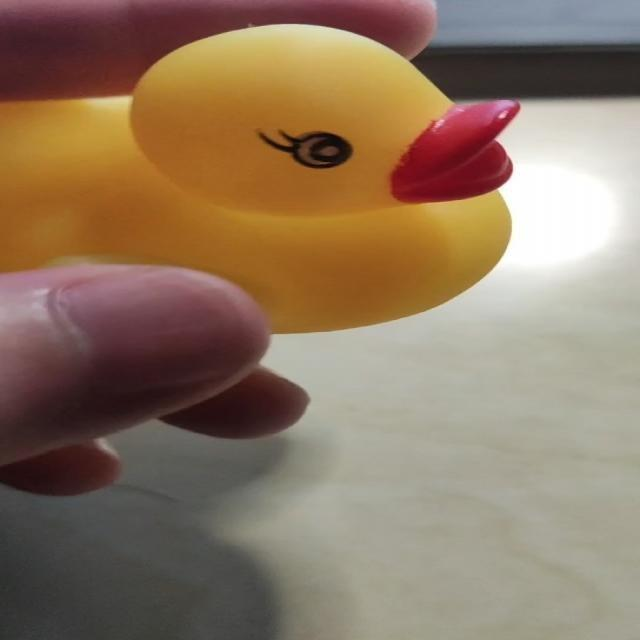rubber-duck: (0, 1, 517, 330), (11, 2, 68, 41)
